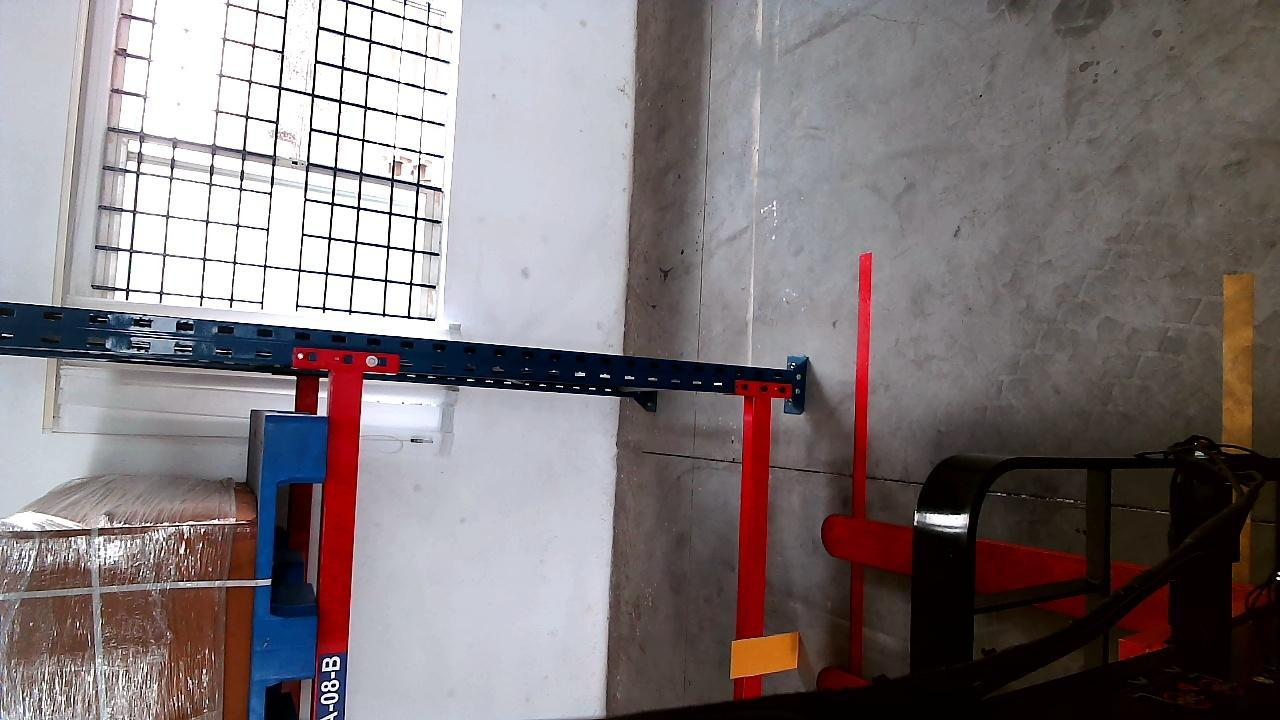red_line: (855, 252, 872, 680)
yellow_line: (1220, 272, 1251, 580)
